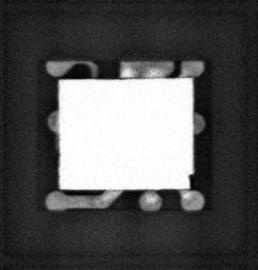DIE_BROKEN: (187, 172, 195, 190)
